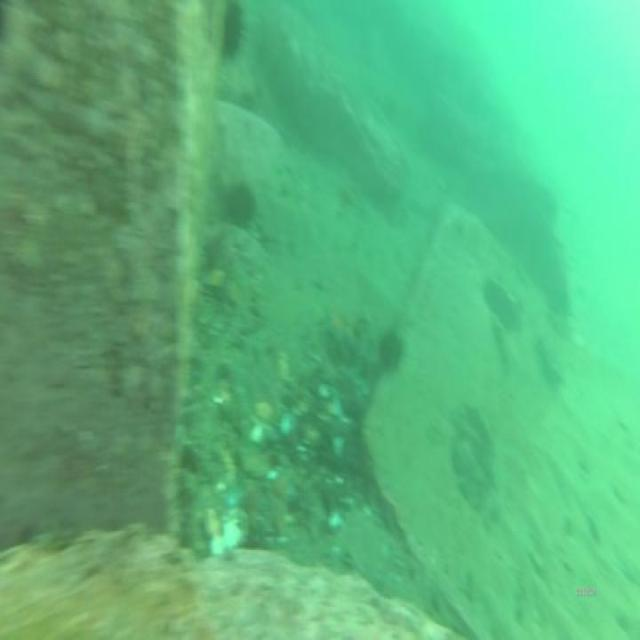echinus: (229, 172, 256, 235), (376, 322, 406, 376)
